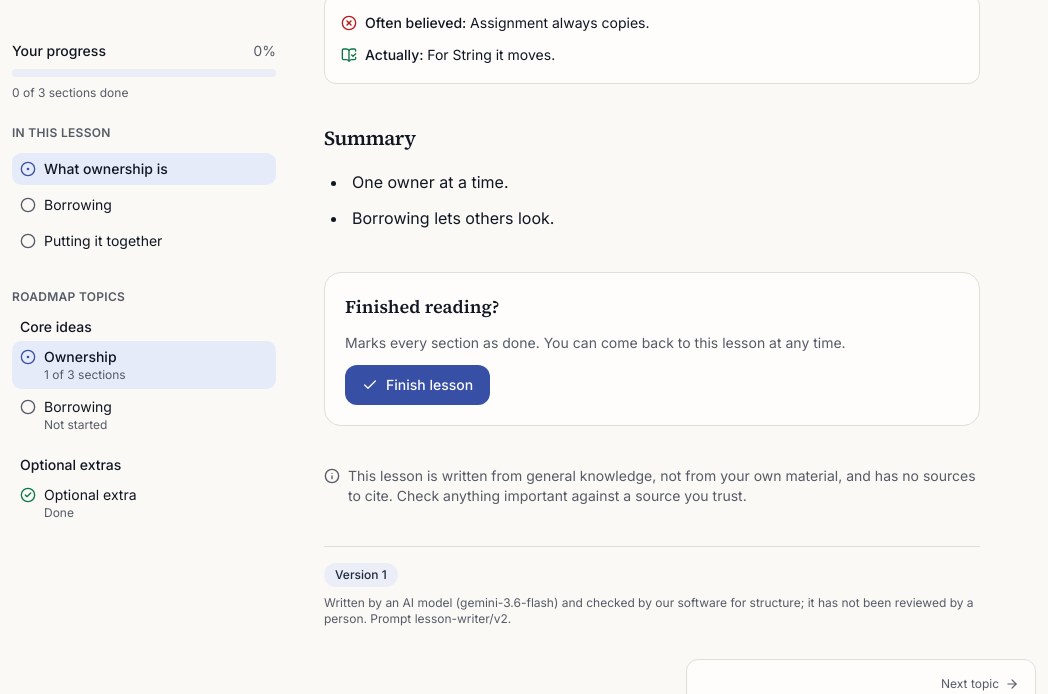
tracking progress › keeps the lesson readable and offers a retry when saving fails
This screenshot has width=1048, height=694.
(page scrolled)
Step 1. Click the button "Finish lesson" → {"x": 418, "y": 385}, box [345,365,490,405]
(page scrolled)
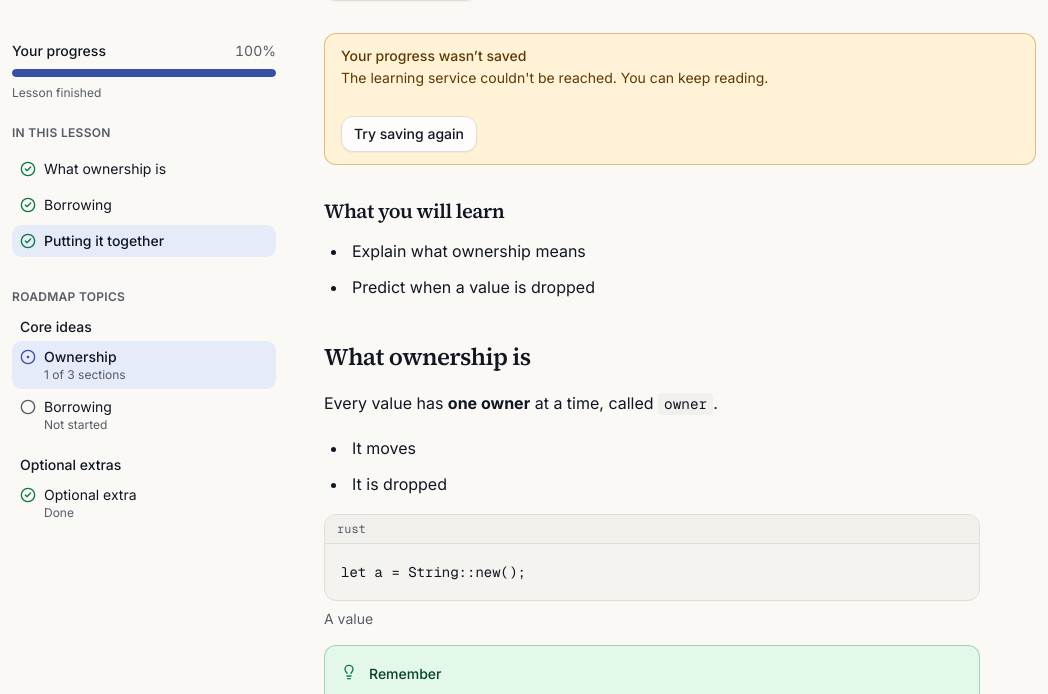
Check: the text "Your progress wasn’t saved" is shown, box [341,47,526,64]
Check: the text "You can keep reading" is shown, box [341,69,768,86]
Step 2. Click the button "Try saving again" → {"x": 409, "y": 134}, box [341,116,477,152]
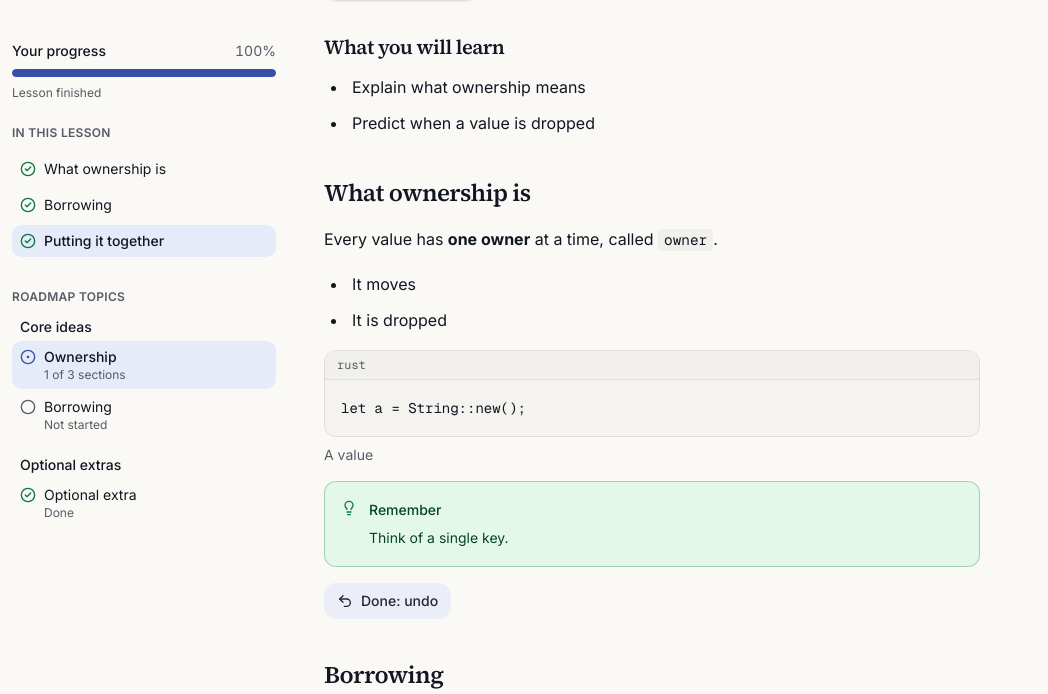
Check: the text "Your progress wasn’t saved" is gone
